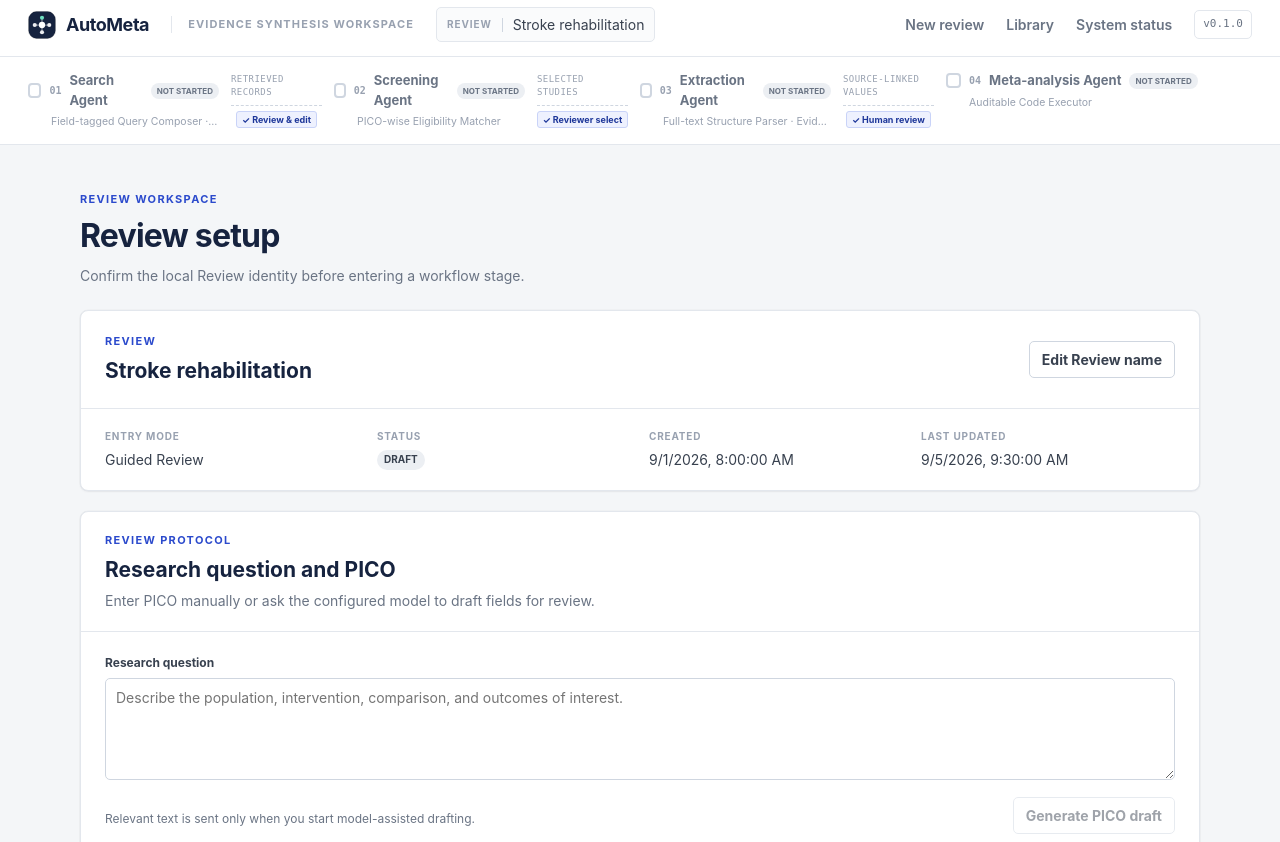
it: ReviewSetupPage › submits protocol drafting as a persistent job
The width and height of the screenshot is (1280, 842).
Step 1. Type "Does rehabilitation improve recovery after stroke?" into the text box labelled "Research question" → (640, 729), box [105, 678, 1175, 780]
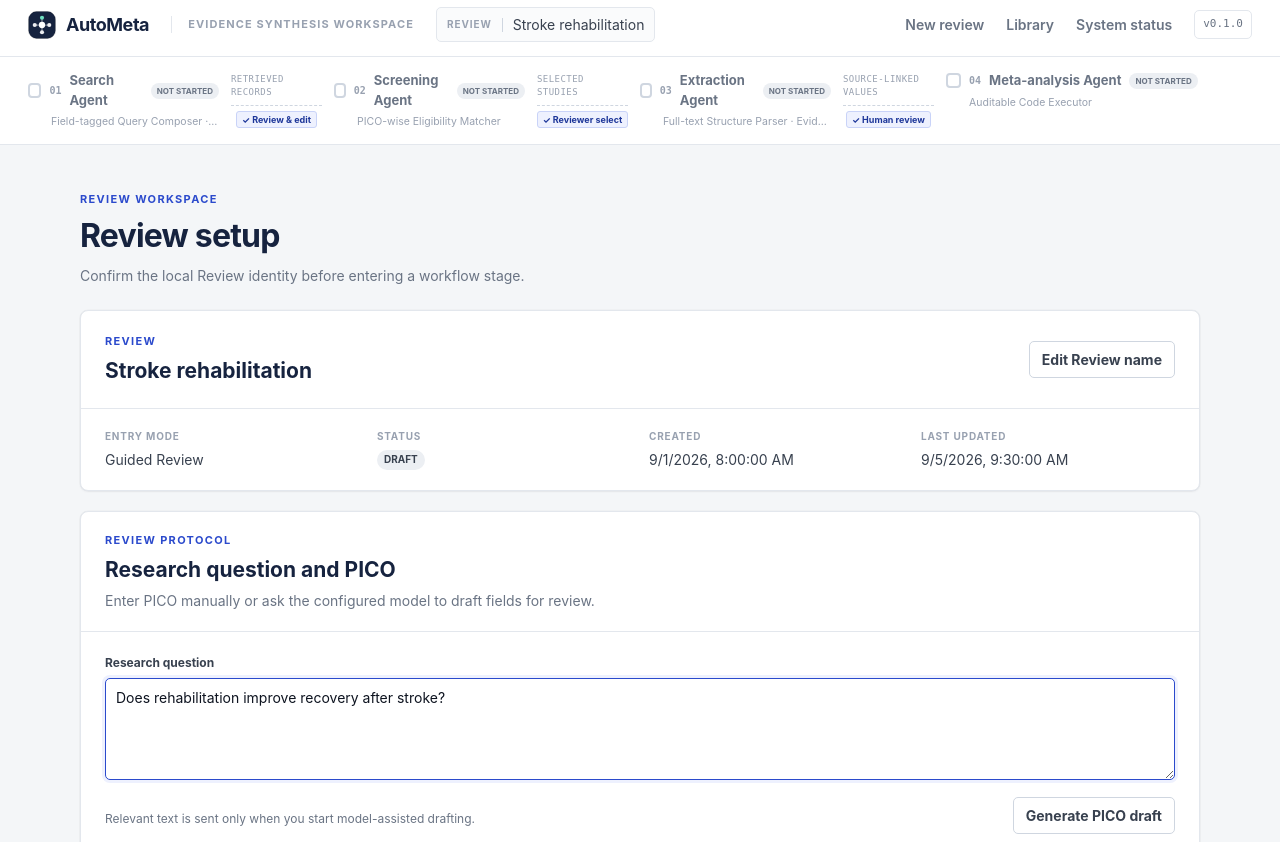
Step 2. Click the button "Generate PICO draft" → (1094, 816), box [1013, 797, 1175, 834]
(page scrolled)
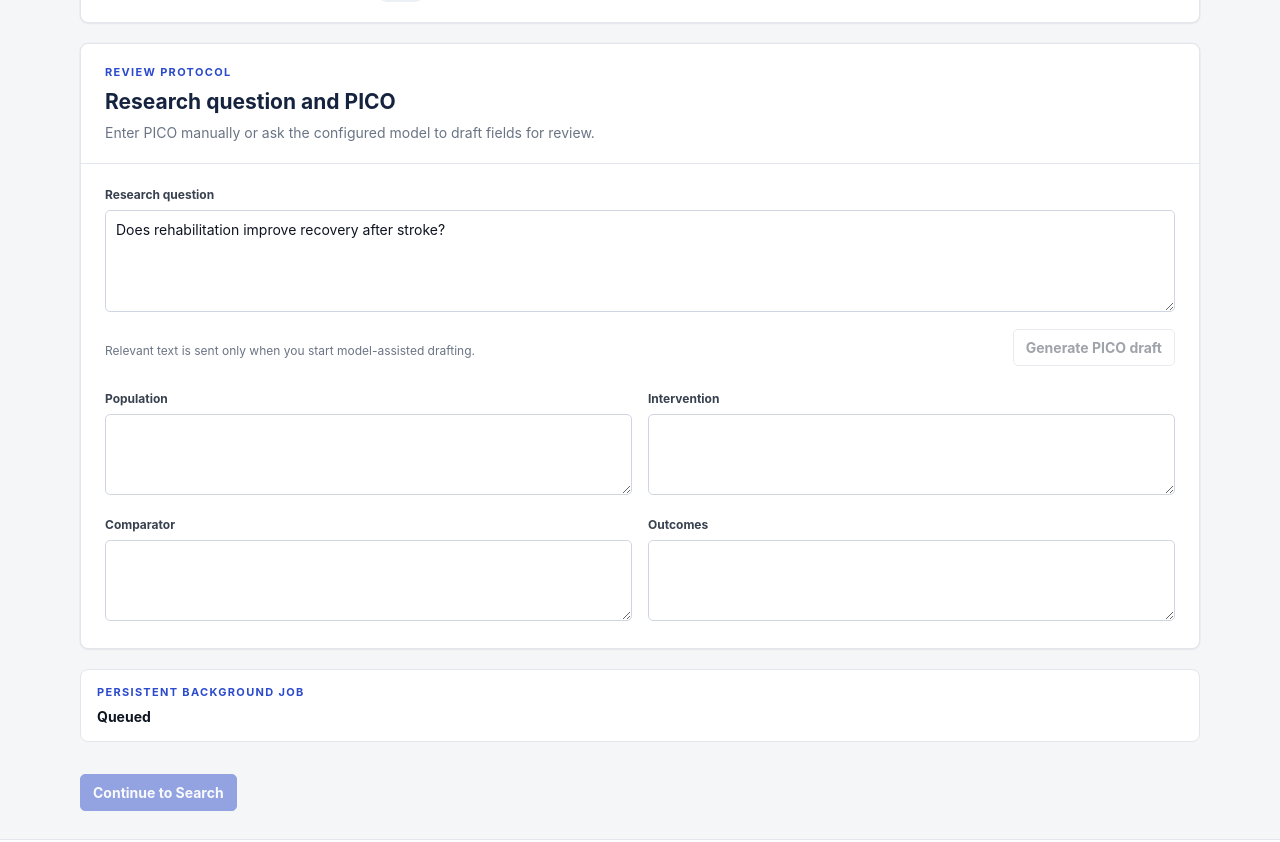
Now the text "Queued" is shown, box [97, 708, 151, 725]
